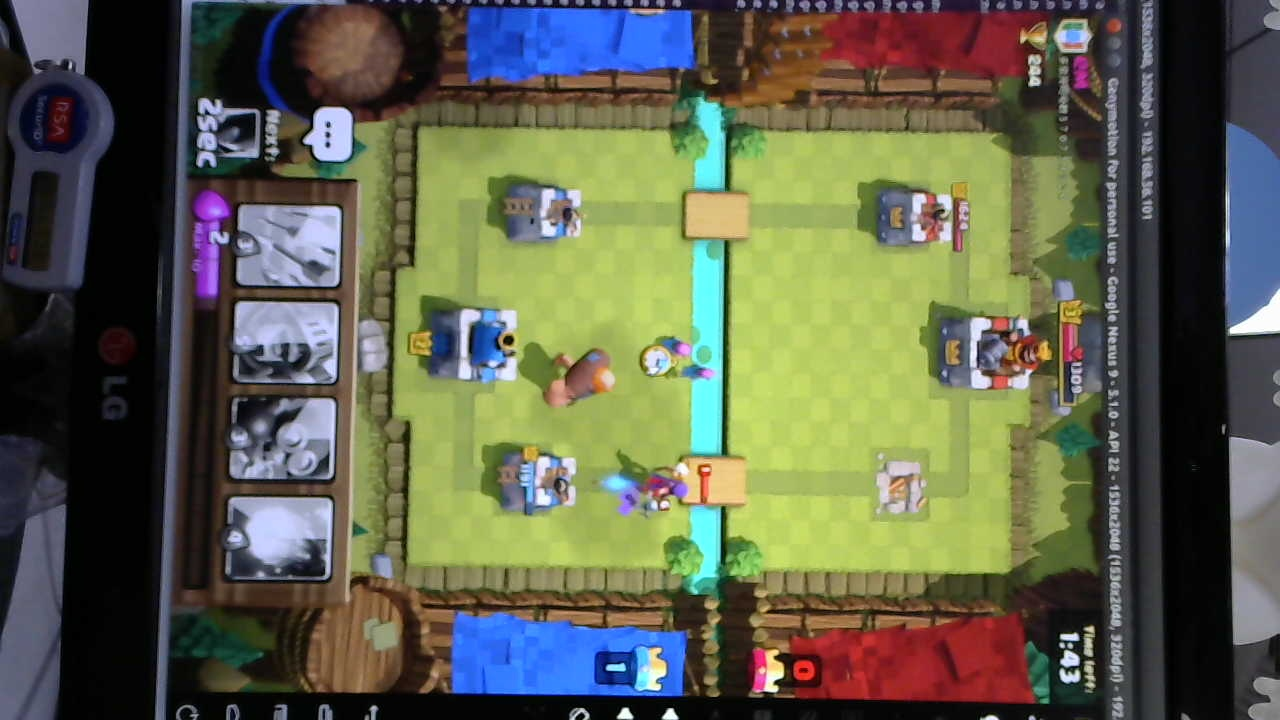archers: (639, 333, 714, 380)
